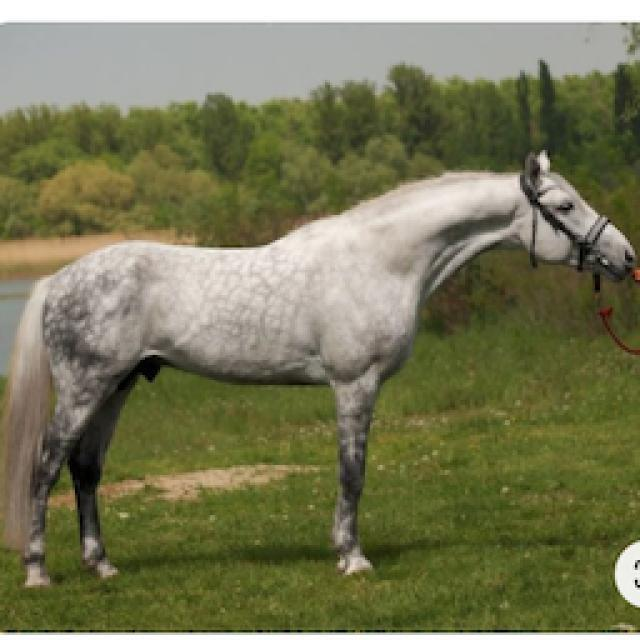Horse: (0, 142, 638, 590)
